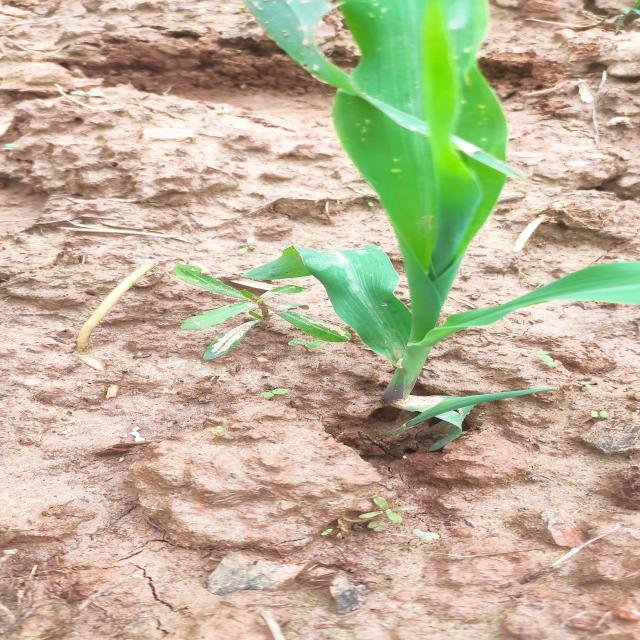maize: (316, 5, 640, 421)
weed: (180, 264, 309, 362)
